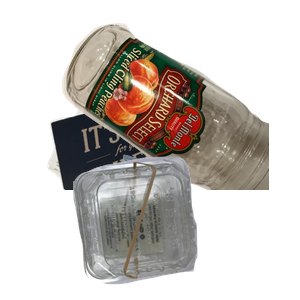glass: (60, 21, 300, 201)
paper: (45, 34, 230, 214)
plastic: (71, 154, 300, 300)
trash: (104, 152, 280, 300)
